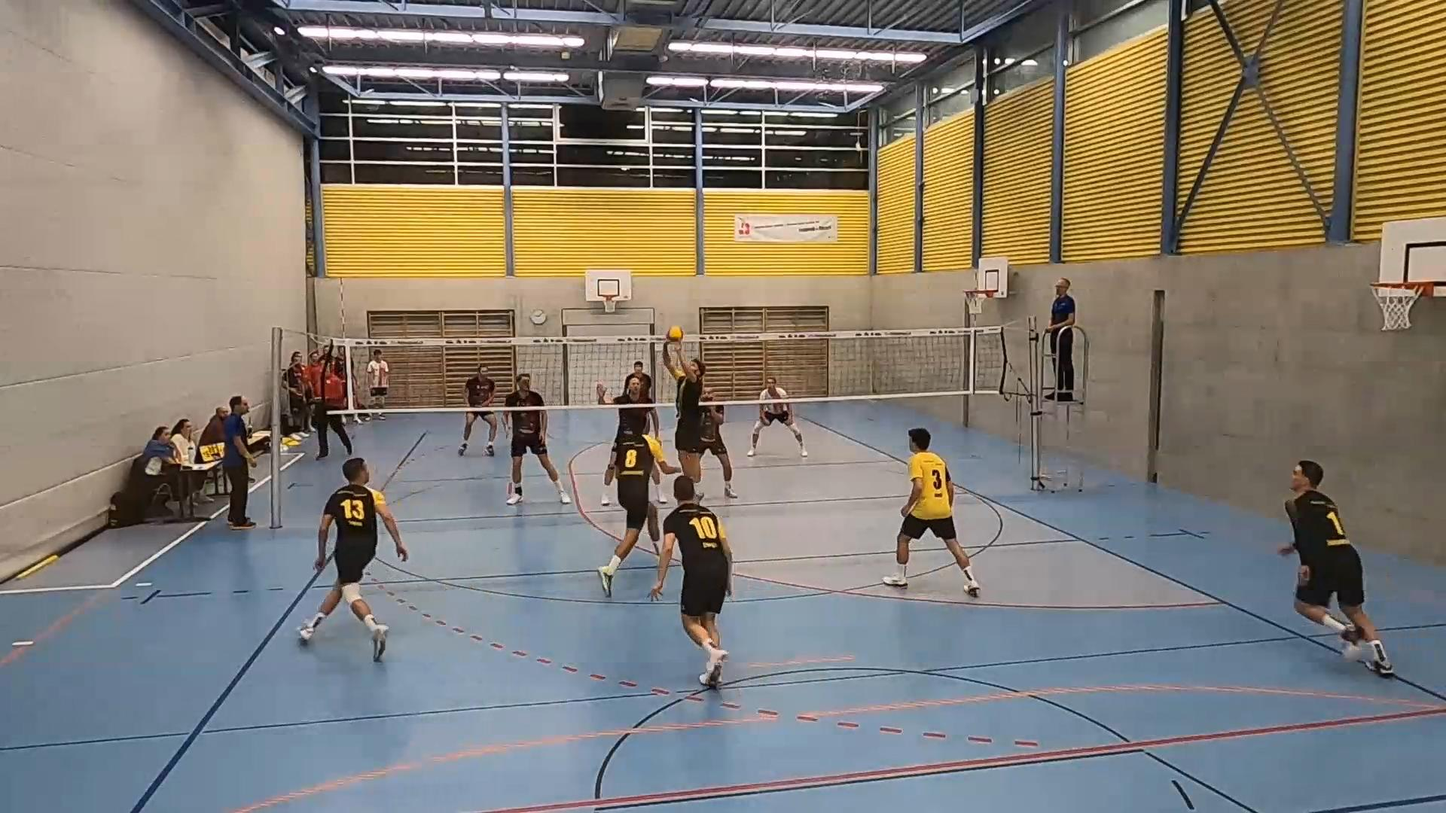Player: (1280, 460, 1393, 676), (299, 458, 407, 660), (650, 476, 732, 687), (882, 428, 979, 596), (598, 432, 678, 596), (503, 373, 571, 504), (597, 375, 658, 506), (747, 376, 807, 457), (700, 388, 737, 498), (458, 366, 497, 455), (624, 361, 653, 400)
Set: (661, 353, 717, 506)
ball: (663, 326, 684, 340)
